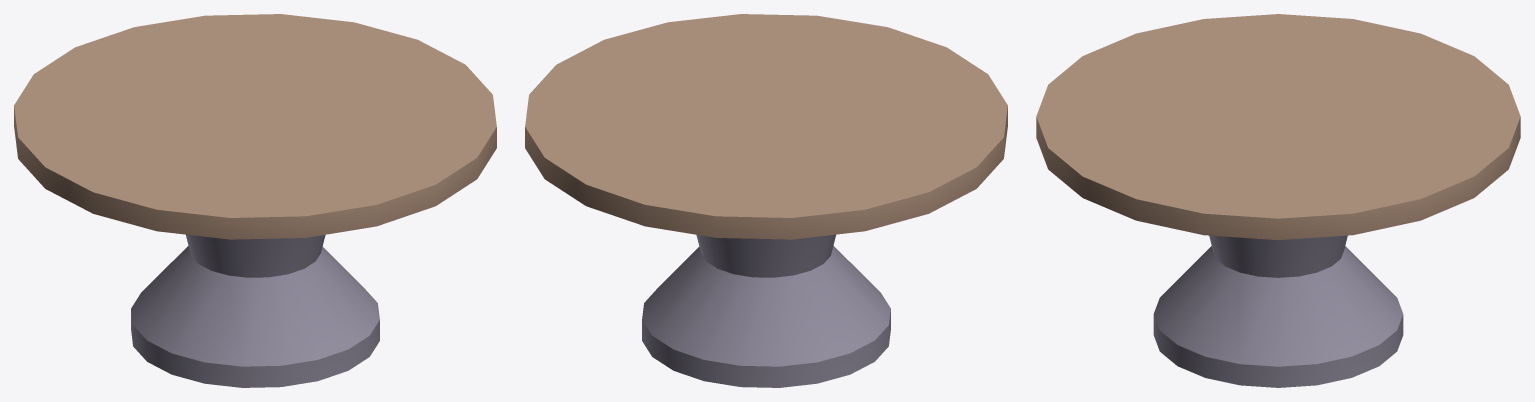
Rendered from table-kitchen-round-single.glb.
3 views of the same model, side by side, from view 1: azimuth 30°, elevation 25°; view 2: azimuth 150°, elevation 25°; view 3: azimuth 270°, elevation 25° (orthographic).
Visible parts, largest first — view 1: table-kitchen-round-single; view 2: table-kitchen-round-single; view 3: table-kitchen-round-single.
Part boxes in pixels (x1=…): table-kitchen-round-single: x1=14, y1=14, x2=496, y2=387; table-kitchen-round-single: x1=525, y1=14, x2=1007, y2=387; table-kitchen-round-single: x1=1036, y1=14, x2=1520, y2=387.
Size of the model in its own units: 1.03 by 0.5146 by 1.03.
